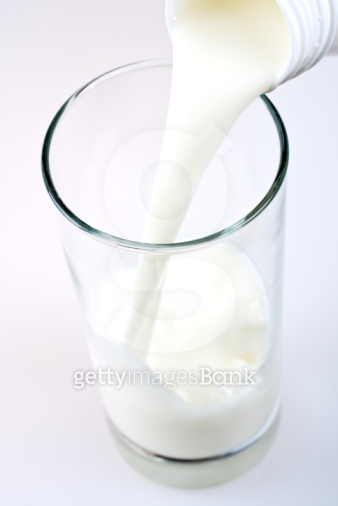glass of milk: (39, 56, 299, 476)
